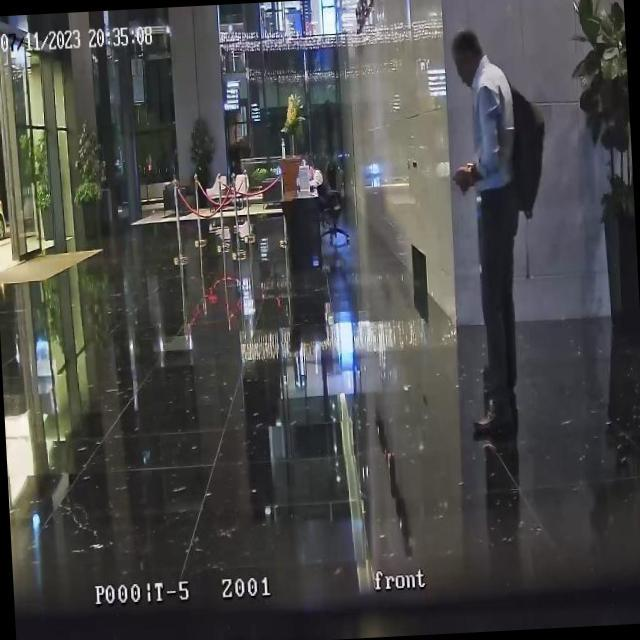person: (446, 24, 533, 440), (310, 160, 335, 203)
